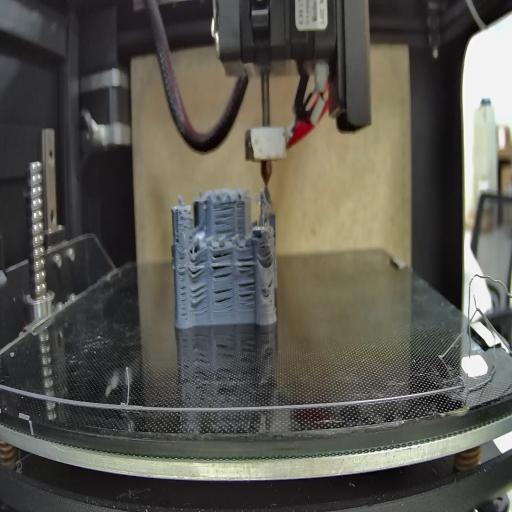cracks: (235, 252, 256, 308), (212, 200, 240, 238), (212, 252, 234, 284), (179, 251, 187, 320), (214, 286, 235, 312), (189, 257, 208, 280), (190, 286, 206, 307), (263, 249, 275, 266), (268, 275, 275, 294), (174, 228, 182, 244)
